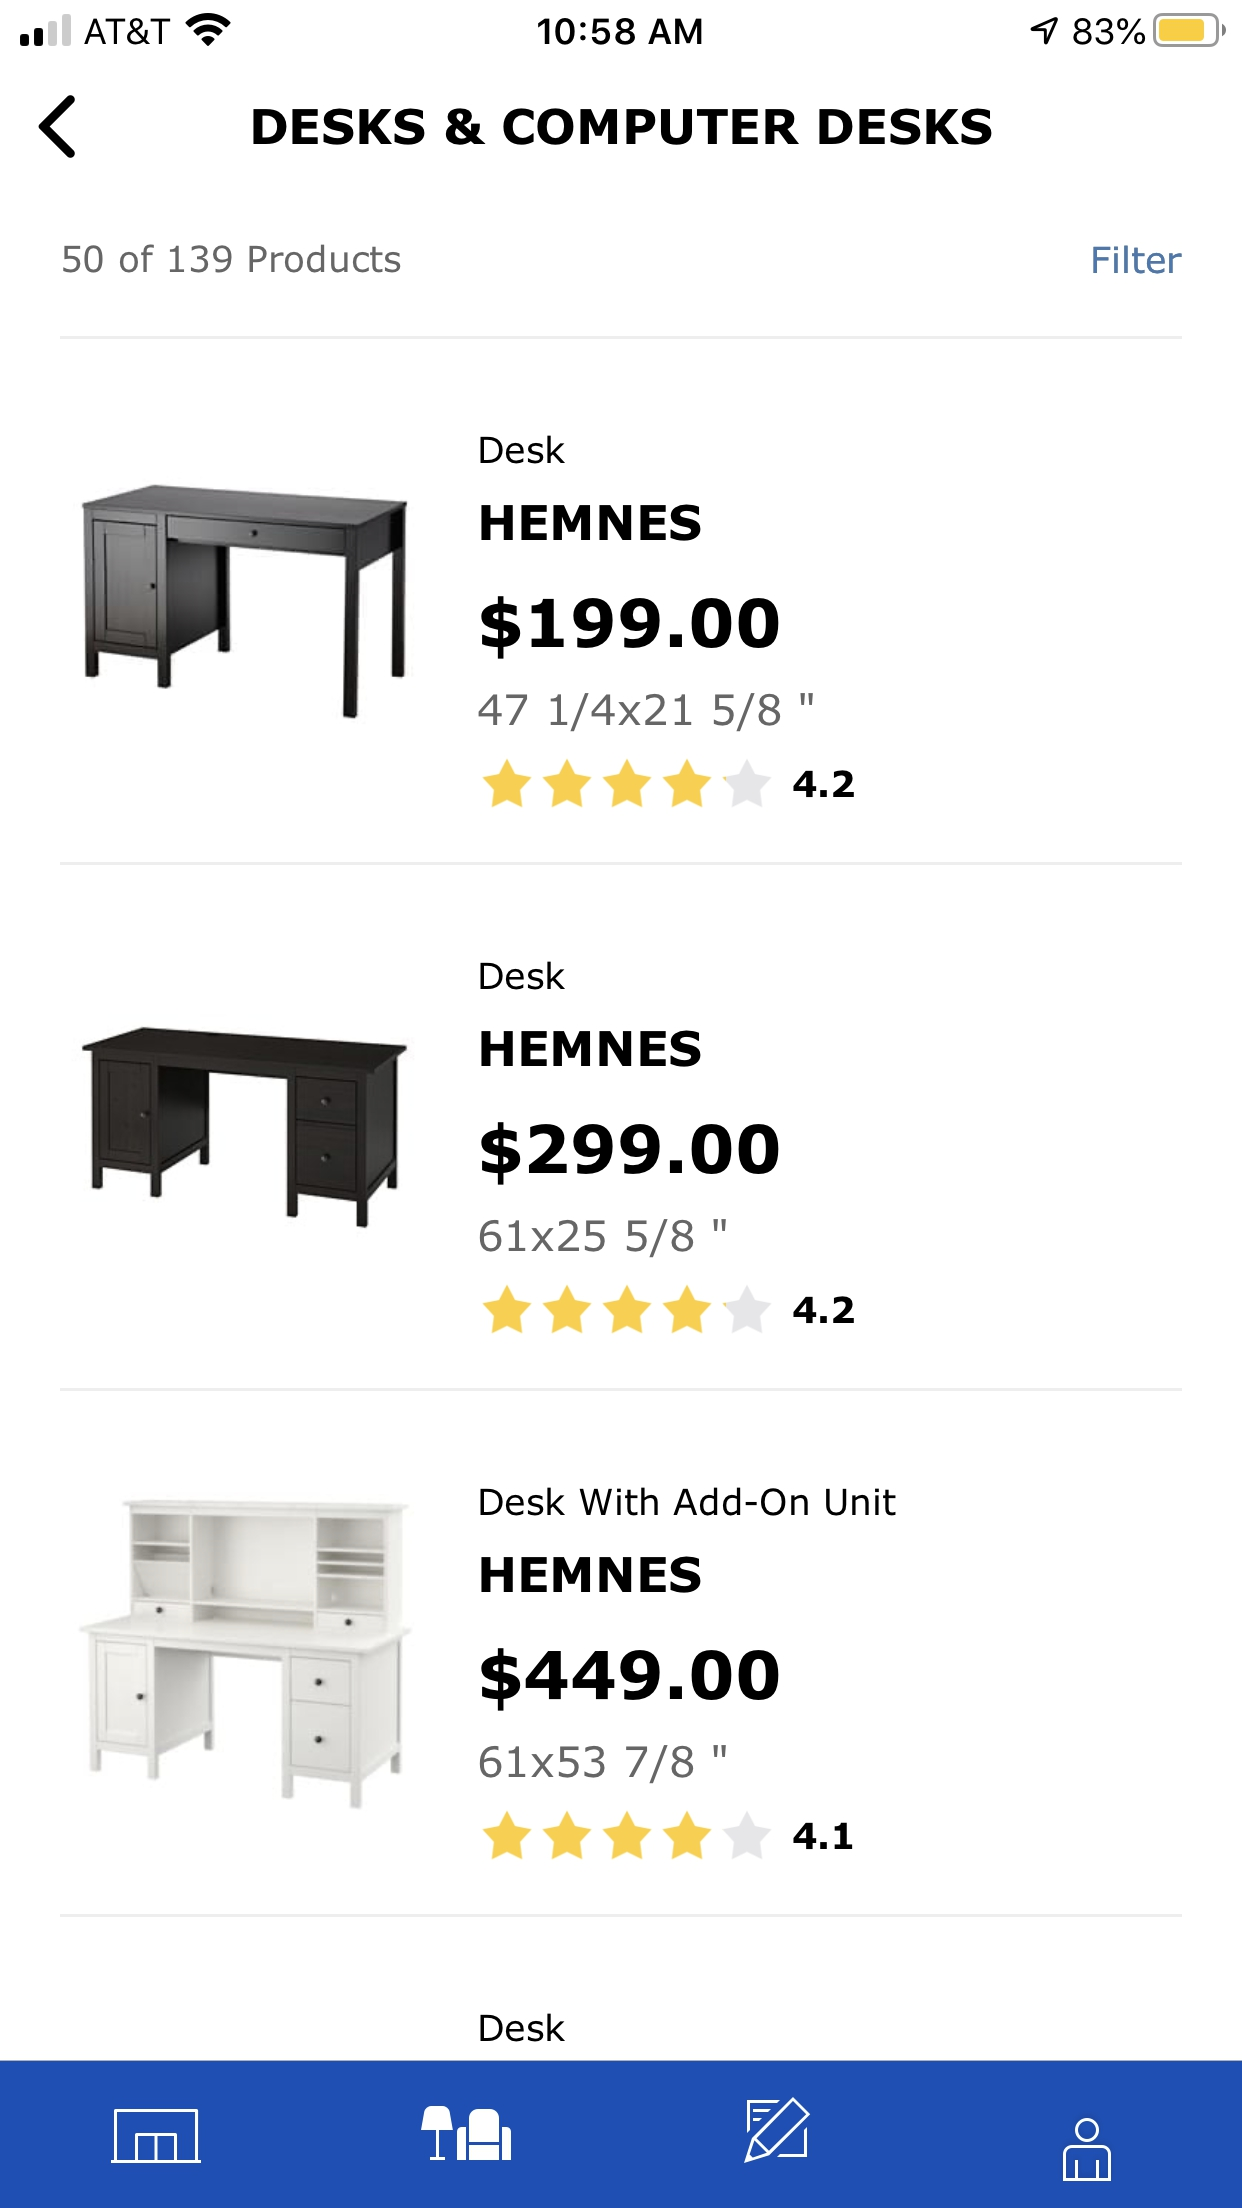Icon: (482, 1284, 773, 1335), (482, 1811, 773, 1861), (482, 758, 772, 808), (745, 2096, 811, 2164), (1062, 2117, 1112, 2182), (38, 96, 77, 161)
Image: (77, 1498, 412, 1811), (82, 484, 409, 720), (80, 1027, 408, 1228), (422, 2105, 513, 2161), (111, 2108, 202, 2164)
Text: (253, 108, 993, 146), (481, 594, 779, 660), (481, 1121, 779, 1186), (482, 1648, 779, 1712), (478, 693, 814, 732), (481, 1488, 898, 1516), (64, 244, 402, 274), (481, 1219, 726, 1259), (481, 1744, 726, 1783), (481, 1030, 702, 1068), (481, 503, 701, 541), (481, 1556, 702, 1592), (1092, 246, 1181, 276), (479, 435, 566, 466), (481, 2012, 566, 2043), (481, 961, 566, 990), (792, 1295, 855, 1324), (793, 770, 855, 799), (792, 1821, 852, 1850)
UpperTaskBar: (2, 2, 1242, 49)
